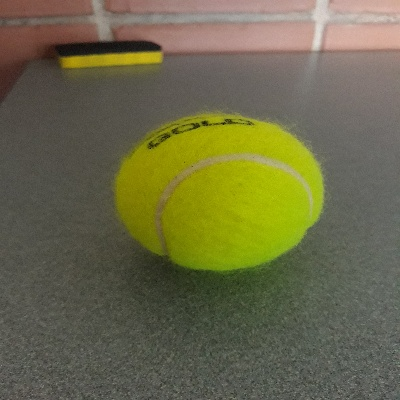Ball: (112, 112, 324, 272)
